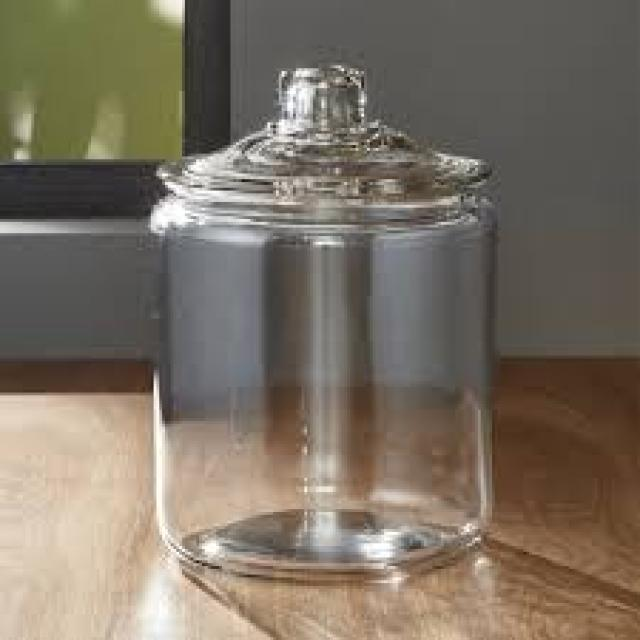glass: (145, 63, 492, 575)
